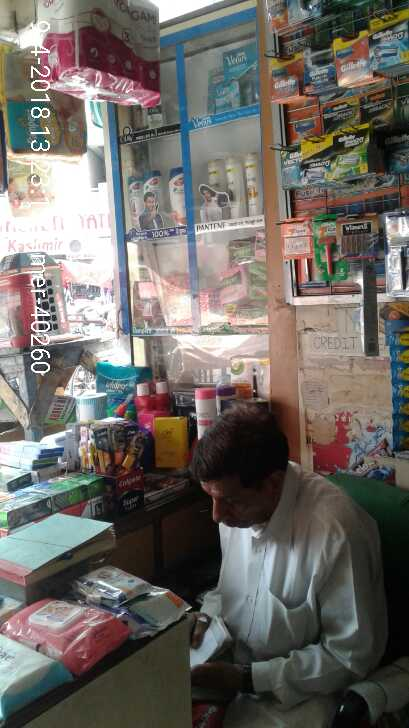gillete: (329, 122, 370, 180), (370, 17, 409, 72), (335, 38, 369, 81), (304, 41, 332, 93), (271, 51, 300, 97), (282, 216, 311, 259), (301, 139, 326, 184), (278, 143, 298, 187), (389, 136, 409, 175)
venus: (224, 40, 259, 110), (208, 68, 221, 111)
